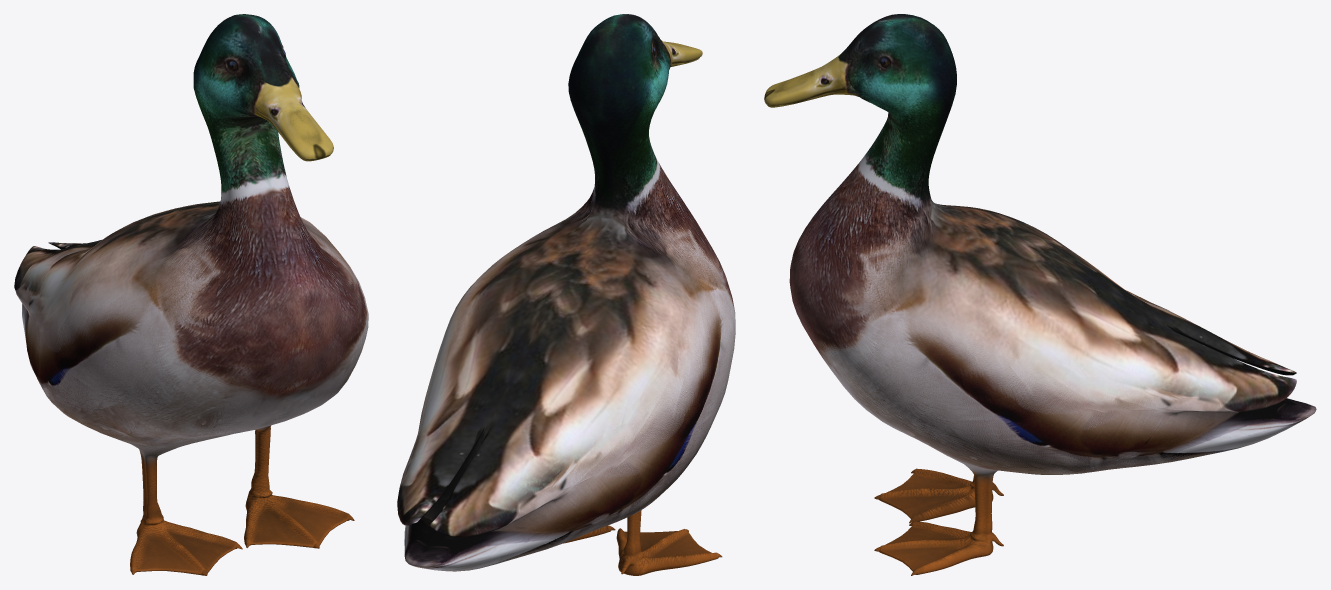
The model's file is duck.gltf.
3 renders of one model, left to right at view 1: azimuth 30°, elevation 25°; view 2: azimuth 150°, elevation 25°; view 3: azimuth 270°, elevation 25°, orthographic. The views are drawn at different scales.
Parts seen in each view (by area): view 1: 12248_Bird_v1_L2; view 2: 12248_Bird_v1_L2; view 3: 12248_Bird_v1_L2.
Part boxes in pixels (left/top/right/bottom): 12248_Bird_v1_L2: left=14, top=14, right=368, bottom=575; 12248_Bird_v1_L2: left=397, top=14, right=735, bottom=575; 12248_Bird_v1_L2: left=764, top=14, right=1316, bottom=575.
Size of the model in its own units: 1.22 by 2.43 by 2.39.
Materials: 1 (1 with a texture image).
